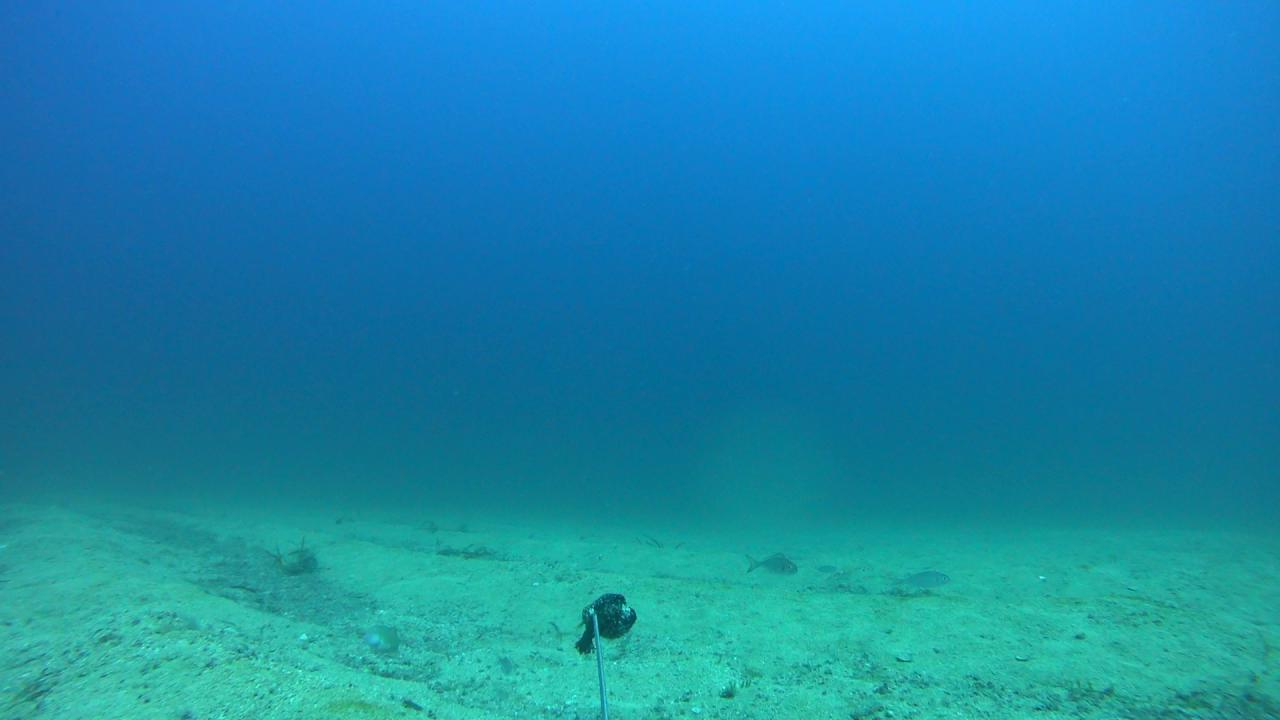pagellus: (742, 553, 795, 576), (894, 569, 948, 586), (491, 653, 516, 678)
raor: (362, 620, 400, 653)
